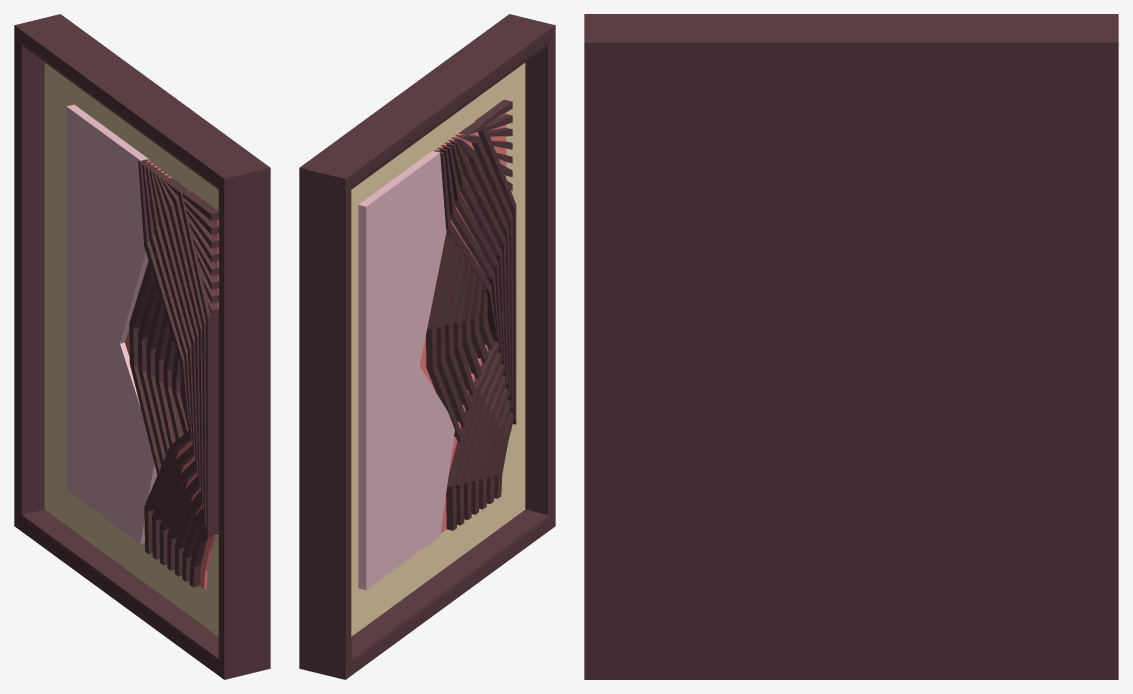
The model's file is Tableau.fbx.
The picture shows the model from 3 angles, left to right: view 1: azimuth 30°, elevation 25°; view 2: azimuth 150°, elevation 25°; view 3: azimuth 270°, elevation 25°; orthographic projection. The views are drawn at different scales.
Parts seen in each view (by area): view 1: Tableau; view 2: Tableau; view 3: Tableau.
Part boxes in pixels (bbox=[...]): Tableau: bbox=[14, 14, 270, 679]; Tableau: bbox=[299, 14, 555, 679]; Tableau: bbox=[584, 14, 1118, 679].
Bounding box in the file's own units: 7.62 × 60 × 78.92.
